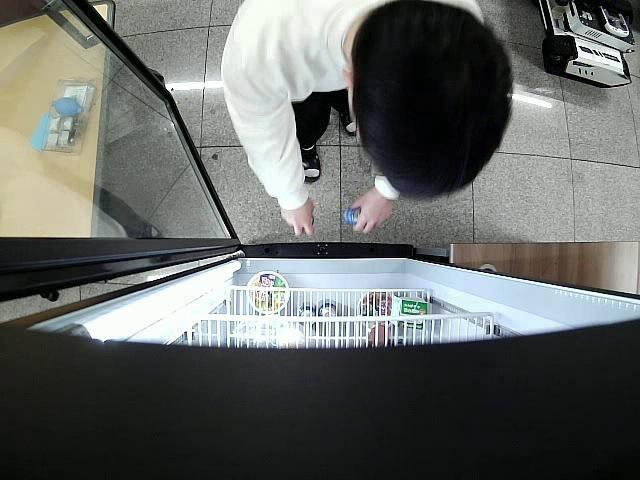15_letsbe: (343, 208, 362, 225)
